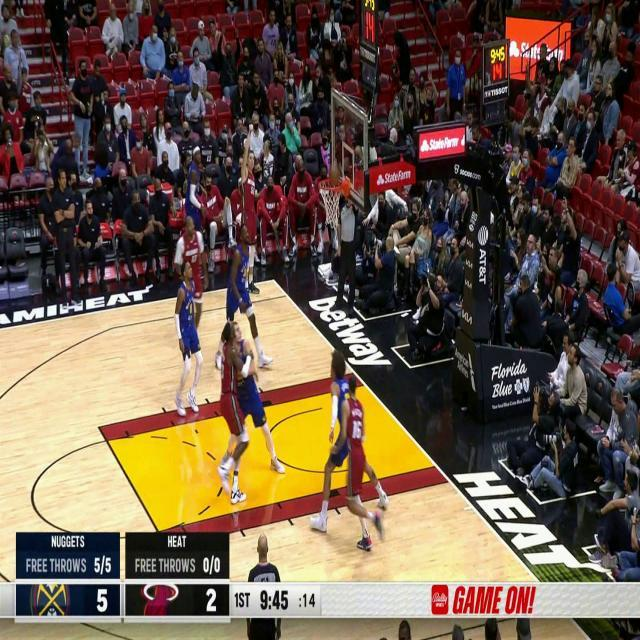rim: (327, 164, 340, 187)
